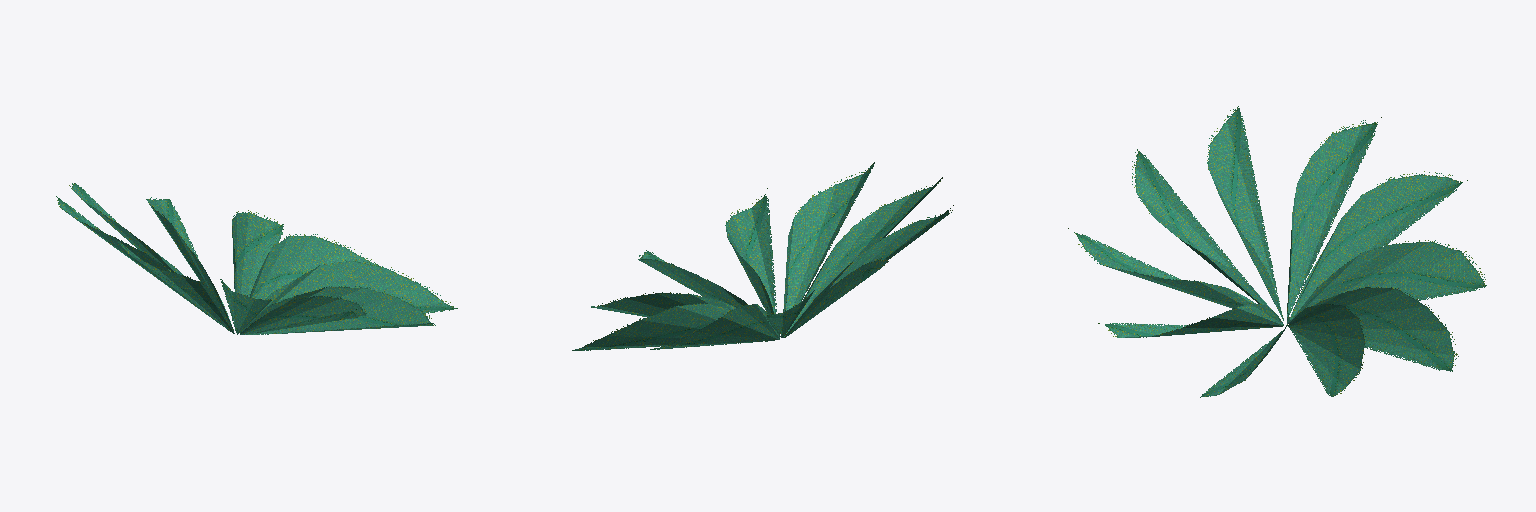
3 renders of one model, left to right at view 1: azimuth 30°, elevation 25°; view 2: azimuth 150°, elevation 25°; view 3: azimuth 270°, elevation 25°, orthographic.
Size of the model in its own units: 14.93 by 6.72 by 16.64.
Materials: 1 (1 with a texture image).